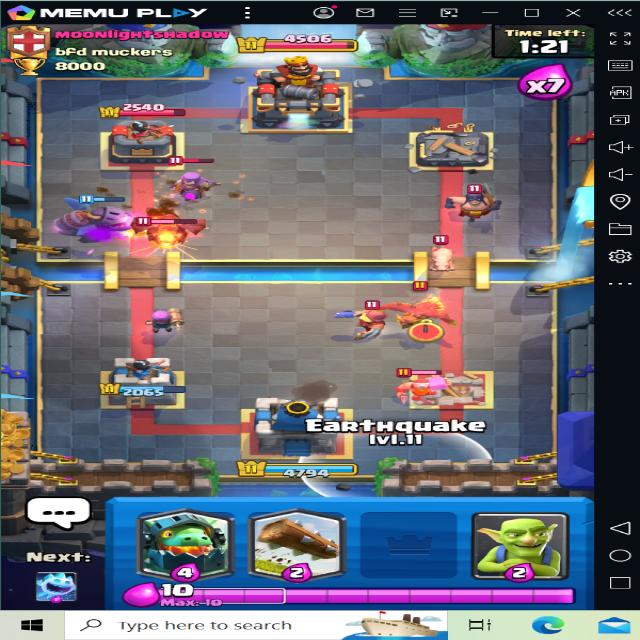executioner: (449, 159, 506, 199)
fisherman: (342, 296, 393, 344)
lava-hound: (121, 212, 215, 249)
lumberjack: (388, 369, 450, 402)
mother-witch: (165, 160, 212, 200)
phoenix: (376, 287, 457, 331)
pig: (424, 229, 459, 272)
